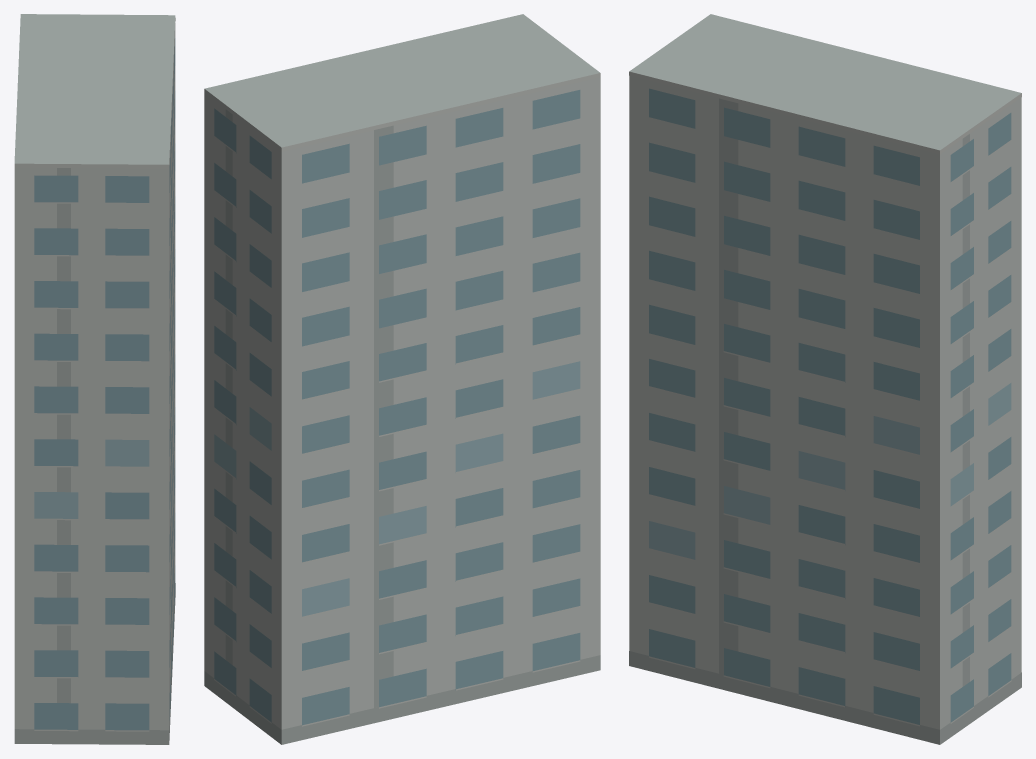
The model's file is residential-c9d32b22-62fa-4890-91b5-091d947534ed.glb.
The picture shows the model from 3 angles, left to right: view 1: azimuth 30°, elevation 25°; view 2: azimuth 150°, elevation 25°; view 3: azimuth 270°, elevation 25°; orthographic projection. The views are drawn at different scales.
Parts seen in each view (by area): view 1: residential-c9d32b22-62fa-4890-91b5-091d947534ed.tmp; view 2: residential-c9d32b22-62fa-4890-91b5-091d947534ed.tmp; view 3: residential-c9d32b22-62fa-4890-91b5-091d947534ed.tmp.
Part boxes in pixels (x1=…): residential-c9d32b22-62fa-4890-91b5-091d947534ed.tmp: x1=14, y1=14, x2=175, y2=744; residential-c9d32b22-62fa-4890-91b5-091d947534ed.tmp: x1=204, y1=14, x2=600, y2=744; residential-c9d32b22-62fa-4890-91b5-091d947534ed.tmp: x1=629, y1=14, x2=1021, y2=744.
Bounding box in the file's own units: 17.24 × 35 × 20.96.
